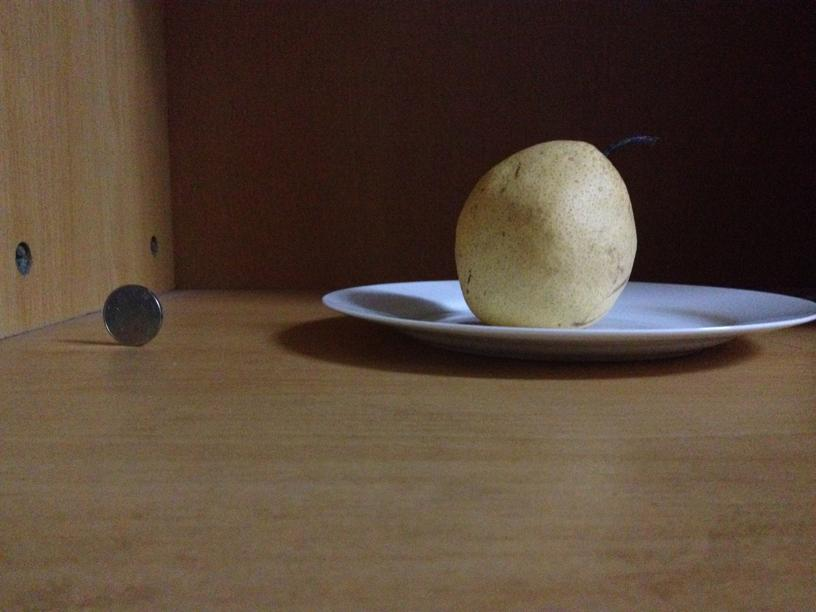coin: (100, 282, 160, 345)
pear: (445, 136, 641, 329)
